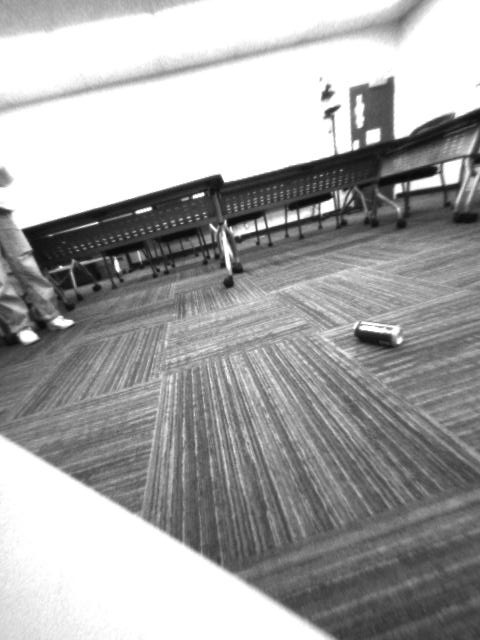can: (351, 316, 404, 350)
